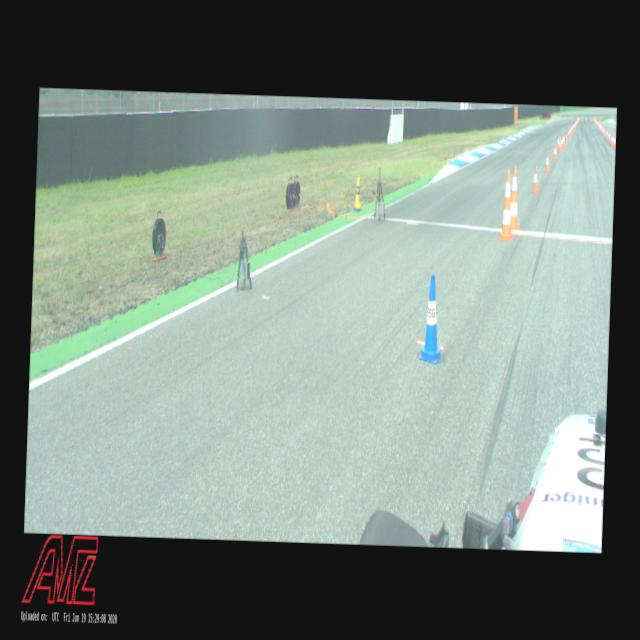blue_cone: (418, 274, 444, 364)
large_orange_cone: (498, 168, 516, 240), (509, 165, 522, 229)
orange_cone: (531, 166, 539, 193), (544, 151, 550, 173), (552, 143, 557, 160), (560, 135, 564, 148), (558, 138, 562, 151), (614, 134, 616, 148), (557, 136, 559, 148), (611, 134, 613, 146), (608, 130, 610, 142), (565, 130, 567, 142), (563, 134, 565, 146), (568, 128, 570, 138), (603, 126, 605, 136), (606, 128, 608, 138), (602, 124, 604, 133), (570, 126, 572, 134), (600, 124, 602, 130)
yellow_cone: (354, 175, 362, 208)
